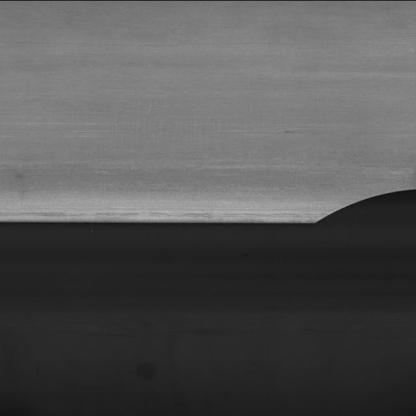crescent_gap: (310, 180, 416, 233)
